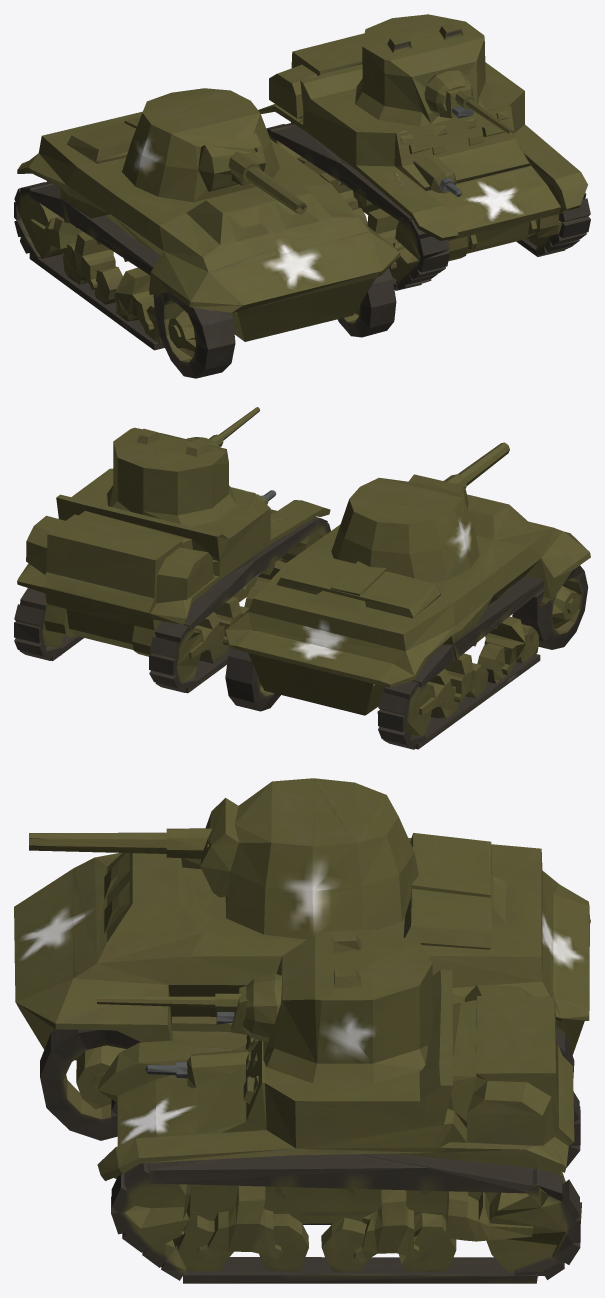
Rendered from bulge_us_cavalry.glb.
3 renders of one model, top to bottom at view 1: azimuth 30°, elevation 25°; view 2: azimuth 150°, elevation 25°; view 3: azimuth 270°, elevation 25°, orthographic. The views are drawn at different scales.
Visible parts, largest first — view 1: figura; view 2: figura; view 3: figura.
Part boxes in pixels (bbox=[...]): figura: bbox=[14, 14, 590, 378]; figura: bbox=[14, 407, 590, 749]; figura: bbox=[14, 778, 590, 1283].
Size of the model in its own units: 0.794 by 0.3579 by 0.665.
1 material, 1 textured.
